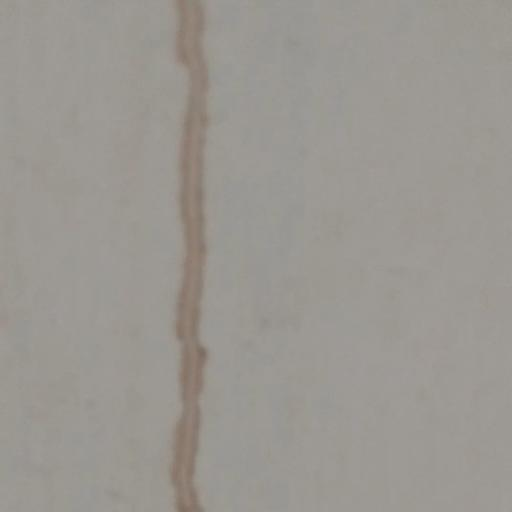stain: (126, 0, 246, 512)
